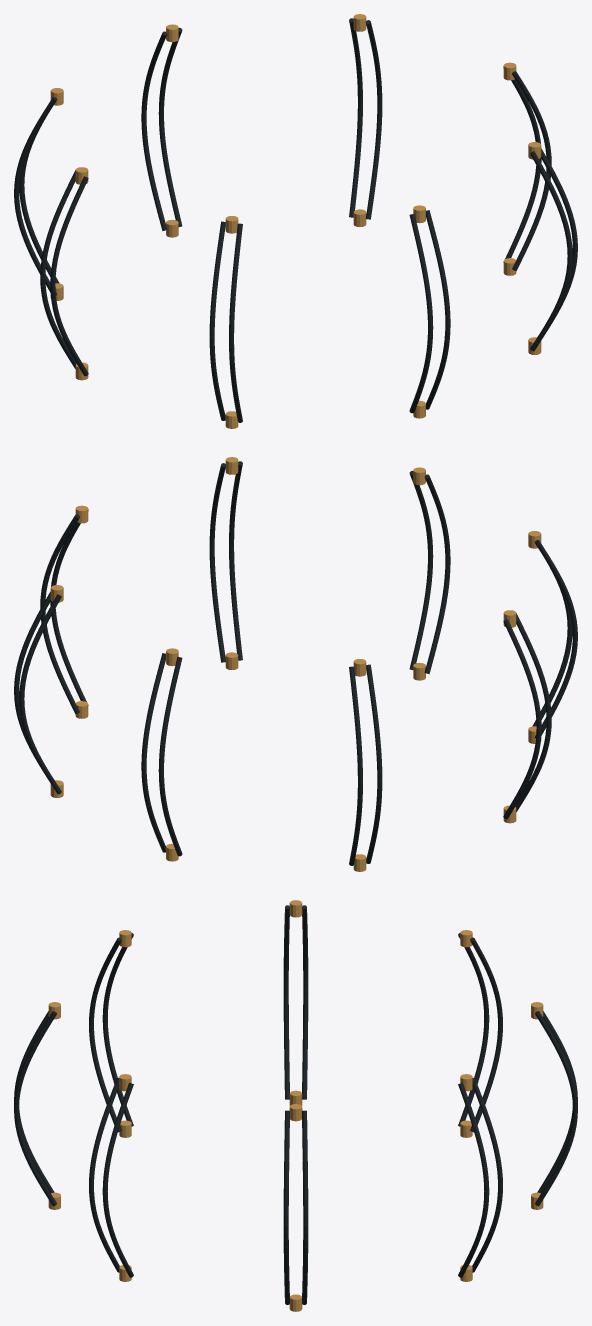
Rendered from SM_Lab_ReactorHarness.fbx.
3 views of the same model, one above another, from view 1: azimuth 30°, elevation 25°; view 2: azimuth 150°, elevation 25°; view 3: azimuth 270°, elevation 25° (orthographic). The views are drawn at different scales.
Parts seen in each view (by area): view 1: SM_Lab_ReactorHarness; view 2: SM_Lab_ReactorHarness; view 3: SM_Lab_ReactorHarness.
Boxes of the visible parts, bbox=[...] form: SM_Lab_ReactorHarness: bbox=[14, 14, 577, 428]; SM_Lab_ReactorHarness: bbox=[14, 457, 577, 871]; SM_Lab_ReactorHarness: bbox=[14, 900, 577, 1311].
Bounding box in the file's own units: 585 × 585 × 232.
